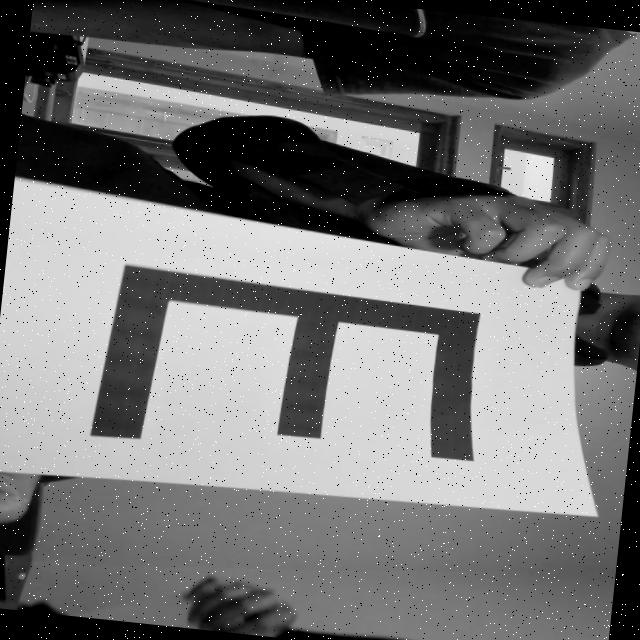e: (74, 252, 508, 492)
